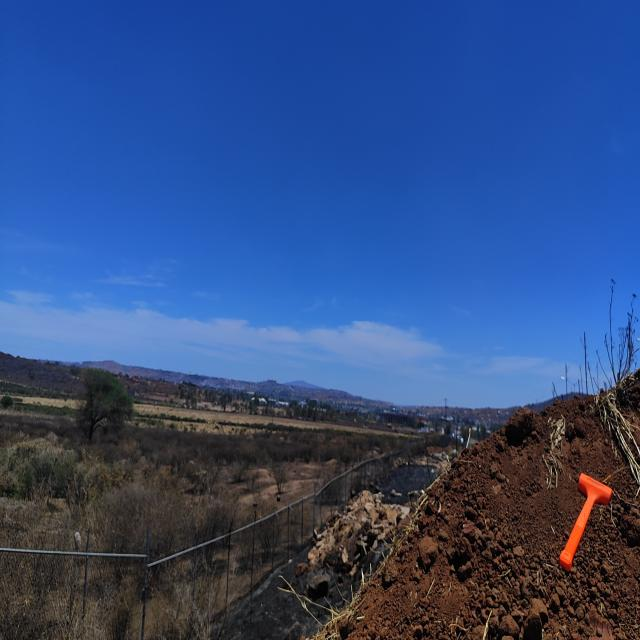Orange_hammer: (559, 471, 613, 572)
rock: (414, 528, 441, 578)
